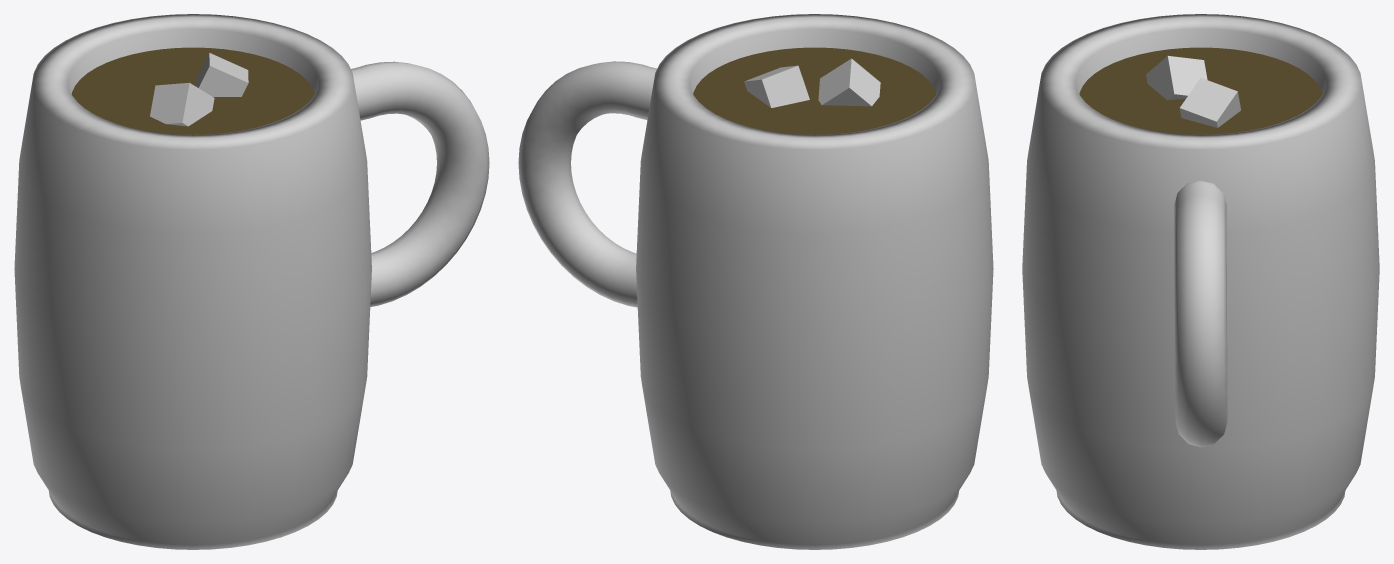
File: CupOfTea.dae
3 renders of one model, left to right at view 1: azimuth 30°, elevation 25°; view 2: azimuth 150°, elevation 25°; view 3: azimuth 270°, elevation 25°, orthographic.
Visible parts, largest first — view 1: Torus, Torus_001, Círculo, Cubo_001, Cubo_002; view 2: Torus, Torus_001, Círculo, Cubo_001, Cubo_002; view 3: Torus, Torus_001, Círculo, Cubo_002, Cubo_001.
Boxes of the visible parts, left/top/right/bottom form: Torus: left=14, top=14, right=371, bottom=549; Torus_001: left=351, top=61, right=489, bottom=306; Círculo: left=71, top=47, right=314, bottom=134; Cubo_001: left=150, top=82, right=214, bottom=126; Cubo_002: left=195, top=53, right=248, bottom=96; Torus: left=636, top=14, right=993, bottom=549; Torus_001: left=518, top=61, right=656, bottom=307; Círculo: left=693, top=47, right=936, bottom=134; Cubo_001: left=818, top=58, right=880, bottom=106; Cubo_002: left=744, top=65, right=809, bottom=107; Torus: left=1022, top=14, right=1379, bottom=549; Torus_001: left=1174, top=180, right=1227, bottom=447; Círculo: left=1079, top=47, right=1322, bottom=134; Cubo_002: left=1179, top=78, right=1240, bottom=127; Cubo_001: left=1146, top=56, right=1207, bottom=100.
Bounding box in the file's own units: 3.61 × 2.5 × 3.26.
